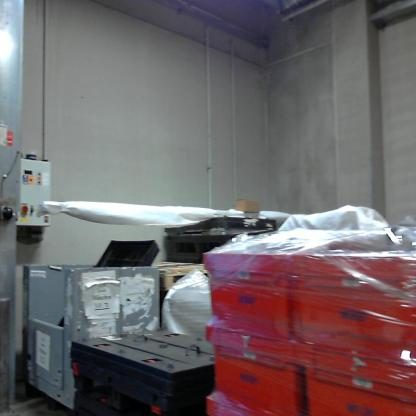pallet: (126, 245, 216, 294)
small_load_carrier: (280, 225, 413, 355), (194, 235, 299, 363), (199, 321, 316, 401), (295, 335, 413, 411), (198, 379, 303, 413)
